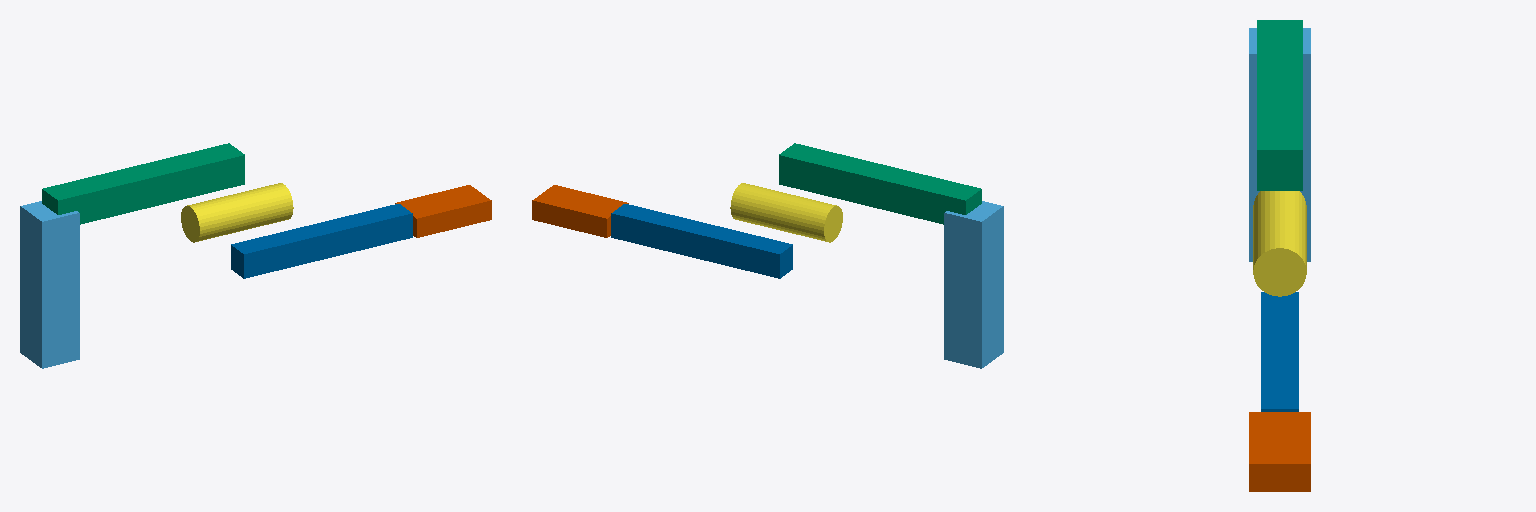
The robot description file, URDF, robot "rehab_arm":
<?xml version="1.0"?>
<robot name="rehab_arm">
  <link name="base_link"/>
  <link name="shoulder_link">
    <visual><origin xyz="0 0 0.15"/><geometry><box size="0.08 0.08 0.30"/></geometry></visual>
  </link>
  <joint name="shoulder_lift_joint" type="revolute">
    <parent link="base_link"/><child link="shoulder_link"/>
    <origin xyz="0 0 0.1"/><axis xyz="0 1 0"/>
    <limit lower="-0.70" upper="1.40" effort="20" velocity="0.60"/>
  </joint>
  <link name="upper_arm_link">
    <visual><origin xyz="0.20 0 0"/><geometry><box size="0.40 0.06 0.06"/></geometry></visual>
  </link>
  <joint name="shoulder_abduction_joint" type="revolute">
    <parent link="shoulder_link"/><child link="upper_arm_link"/>
    <origin xyz="0 0 0.30"/><axis xyz="0 0 1"/>
    <limit lower="-0.45" upper="0.80" effort="20" velocity="0.40"/>
  </joint>
  <link name="upper_arm_rotation_link">
    <visual><origin xyz="0.10 0 0"/><geometry><cylinder radius="0.035" length="0.20"/></geometry></visual>
  </link>
  <joint name="upper_arm_rotation_joint" type="revolute">
    <parent link="upper_arm_link"/><child link="upper_arm_rotation_link"/>
    <origin xyz="0.40 0 0" rpy="0 1.5708 0"/><axis xyz="1 0 0"/>
    <limit lower="-1.20" upper="1.20" effort="15" velocity="0.70"/>
  </joint>
  <link name="forearm_link">
    <visual><origin xyz="0.18 0 0"/><geometry><box size="0.36 0.05 0.05"/></geometry></visual>
  </link>
  <joint name="elbow_lift_joint" type="revolute">
    <parent link="upper_arm_rotation_link"/><child link="forearm_link"/>
    <origin xyz="0.20 0 0" rpy="0 -1.5708 0"/><axis xyz="0 1 0"/>
    <limit lower="0.00" upper="1.80" effort="20" velocity="0.70"/>
  </joint>
  <link name="hand_link">
    <visual><origin xyz="0.08 0 0"/><geometry><box size="0.16 0.08 0.04"/></geometry></visual>
  </link>
  <joint name="forearm_rotation_joint" type="revolute">
    <parent link="forearm_link"/><child link="hand_link"/>
    <origin xyz="0.36 0 0"/><axis xyz="1 0 0"/>
    <limit lower="-1.20" upper="1.20" effort="12" velocity="0.70"/>
  </joint>
</robot>

--- What the picture shows (computed from the rendered views, not written in the file) ---
3 views of the same robot in one strip: view 1: azimuth 30°, elevation 25°; view 2: azimuth 150°, elevation 25°; view 3: azimuth 270°, elevation 25° (orthographic).
Robot: rehab_arm — 6 links, 5 joints (5 revolute); root link base_link; default pose: all joints at 0.
Visible links, largest first — view 1: shoulder_link, upper_arm_link, forearm_link, upper_arm_rotation_link, hand_link; view 2: shoulder_link, upper_arm_link, forearm_link, upper_arm_rotation_link, hand_link; view 3: upper_arm_link, upper_arm_rotation_link, hand_link, forearm_link, shoulder_link.
Boxes of the visible links, box(x1,y1,x2,y2) form: shoulder_link: box(20, 201, 79, 368); upper_arm_link: box(42, 143, 244, 224); forearm_link: box(231, 204, 412, 278); upper_arm_rotation_link: box(181, 183, 293, 242); hand_link: box(395, 185, 491, 237); shoulder_link: box(944, 201, 1003, 368); upper_arm_link: box(779, 143, 981, 224); forearm_link: box(611, 204, 792, 278); upper_arm_rotation_link: box(730, 183, 842, 242); hand_link: box(532, 185, 628, 237); upper_arm_link: box(1257, 20, 1302, 190); upper_arm_rotation_link: box(1253, 191, 1306, 296); hand_link: box(1249, 412, 1310, 491); forearm_link: box(1261, 292, 1298, 411); shoulder_link: box(1249, 28, 1310, 261).
Bounding box of the posed robot: 0.96 × 0.08 × 0.33 m (x, y, z).
Geometry: primitives only (box / cylinder / sphere), no mesh files.
